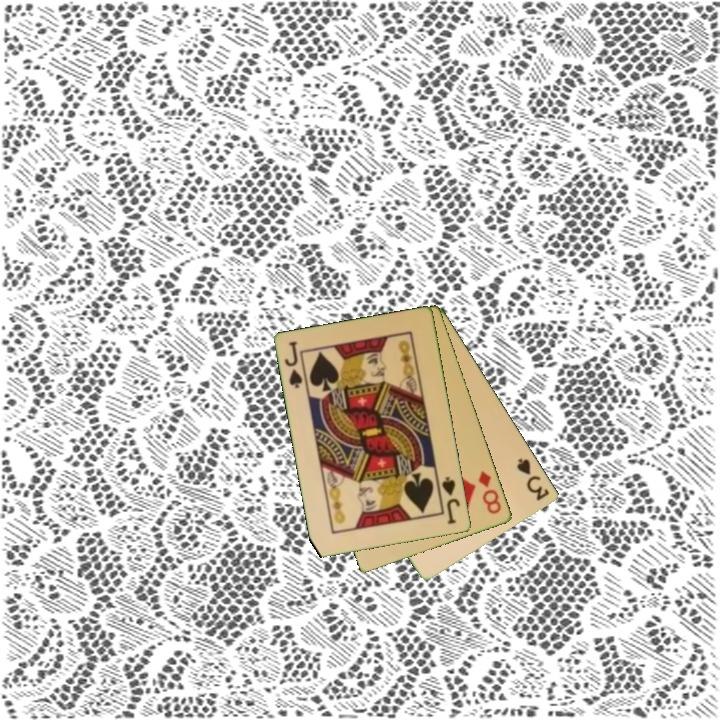3s: (513, 454, 553, 504)
8d: (475, 467, 504, 517)
Js: (281, 338, 306, 392), (439, 473, 463, 527)
